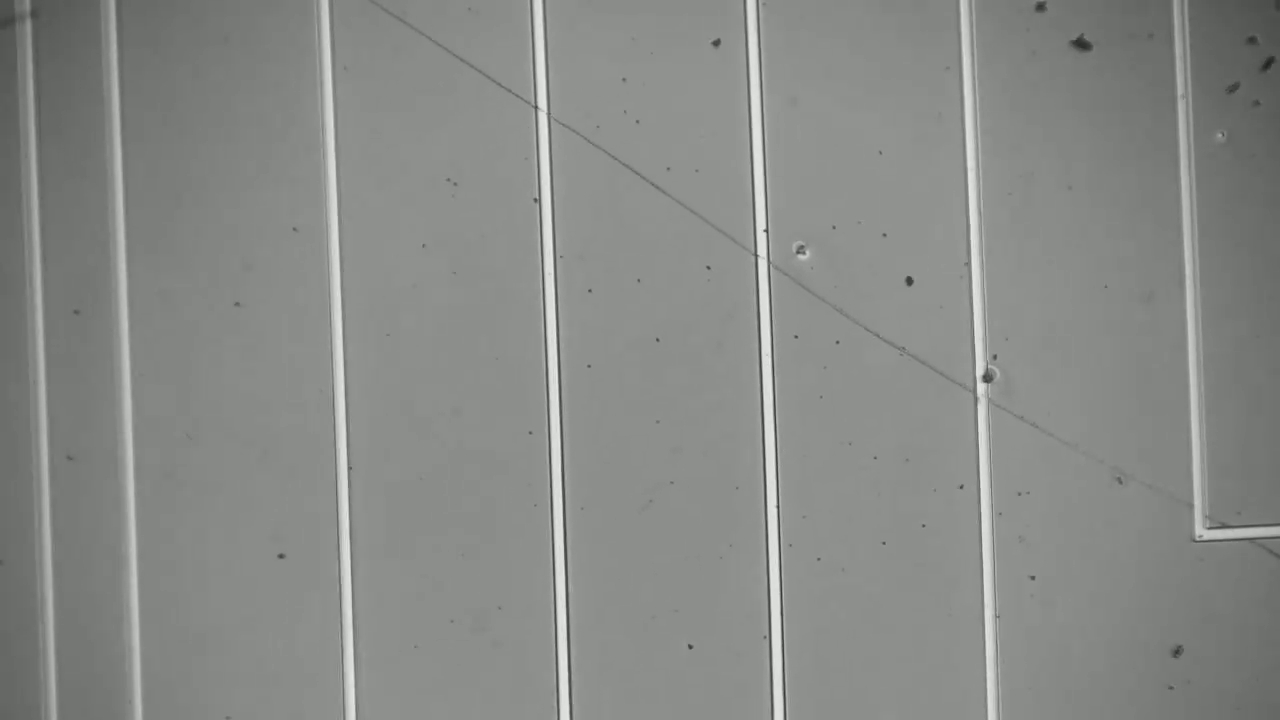scratch: (381, 4, 1278, 565)
stains_enbedded: (965, 356, 1010, 392)
